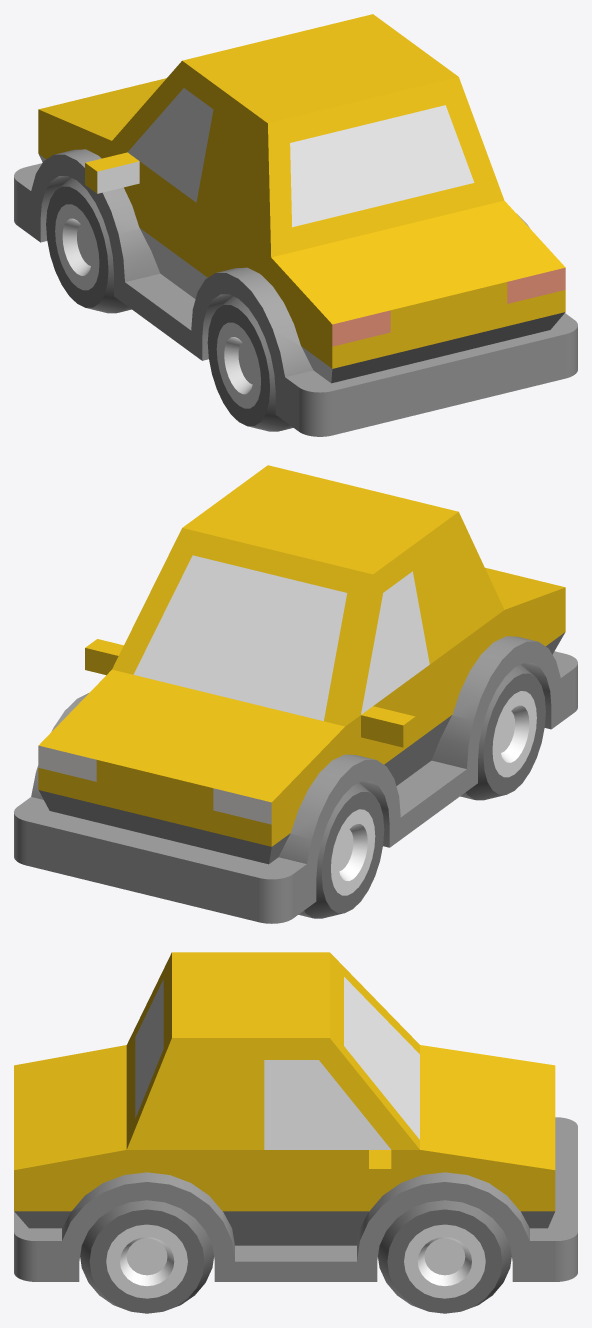
The model's file is sedan.glb.
The picture shows the model from 3 angles, top to bottom: view 1: azimuth 30°, elevation 25°; view 2: azimuth 150°, elevation 25°; view 3: azimuth 270°, elevation 25°; orthographic projection. The views are drawn at different scales.
Visible parts, largest first — view 1: body, wheel_backLeft, wheel_frontLeft; view 2: body, wheel_backLeft, wheel_frontLeft; view 3: body, wheel_backRight, wheel_frontRight.
Boxes of the visible parts, left/top/right/bottom form: body: left=14, top=14, right=577, bottom=436; wheel_backLeft: left=207, top=296, right=293, bottom=431; wheel_frontLeft: left=46, top=177, right=131, bottom=313; body: left=14, top=465, right=577, bottom=923; wheel_backLeft: left=460, top=664, right=545, bottom=800; wheel_frontLeft: left=298, top=783, right=384, bottom=918; body: left=14, top=952, right=577, bottom=1281; wheel_backRight: left=80, top=1200, right=213, bottom=1313; wheel_frontRight: left=378, top=1200, right=511, bottom=1313.
Bounding box in the file's own units: 1.5 × 1.3 × 2.5.
